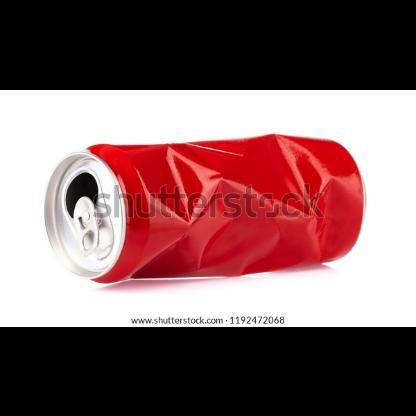Dent_Can: (120, 144, 352, 277)
Lid_Open: (58, 166, 108, 258)
Tin_Can: (40, 130, 364, 286)
